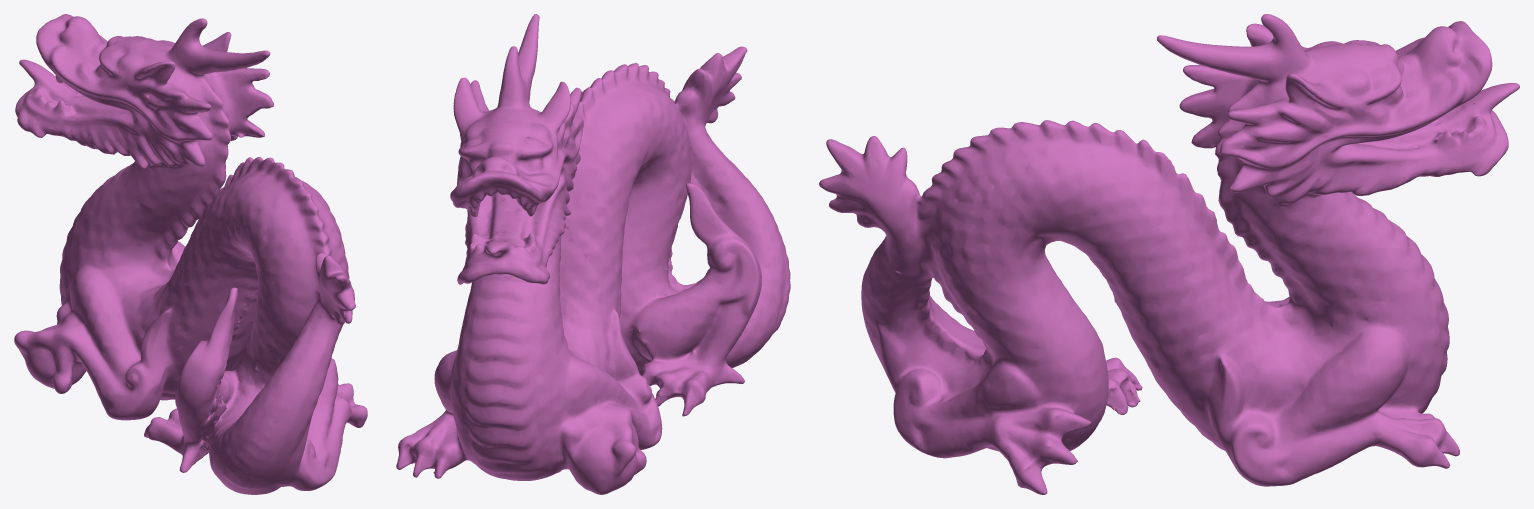
File: dragon.obj
The picture shows the model from 3 angles, left to right: view 1: azimuth 30°, elevation 25°; view 2: azimuth 150°, elevation 25°; view 3: azimuth 270°, elevation 25°; orthographic projection. The views are drawn at different scales.
Visible parts, largest first — view 1: dragon; view 2: dragon; view 3: dragon.
Part boxes in pixels (left/top/right/bottom): dragon: left=14, top=14, right=367, bottom=494; dragon: left=396, top=14, right=790, bottom=494; dragon: left=819, top=14, right=1519, bottom=494.
Bounding box in the file's own units: 0.4473 × 0.7049 × 1.
